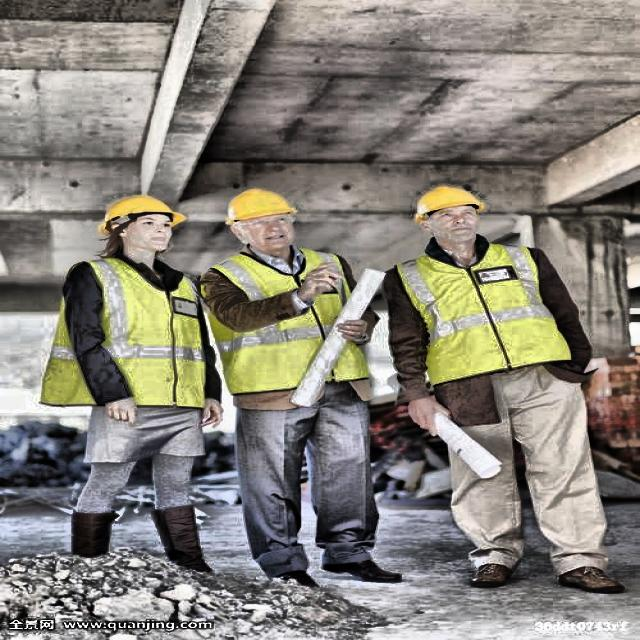helmet: (218, 180, 310, 266), (91, 187, 189, 266), (407, 179, 494, 253)
